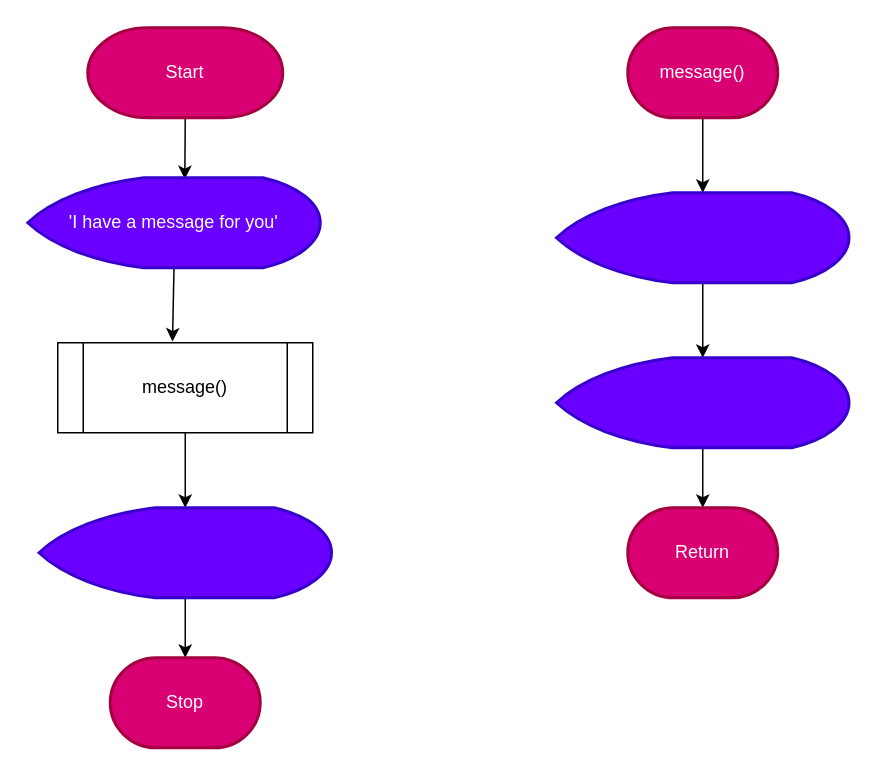
Image size: 876x774. Some labels were removed from this diagram. The box of each missing label's shape, as (x1, y1, x2, y2) in pixels:
'Goodbye!': (37, 506, 332, 598)
'I am Arthur': (554, 190, 850, 284)
'King of Britons': (554, 356, 850, 448)
